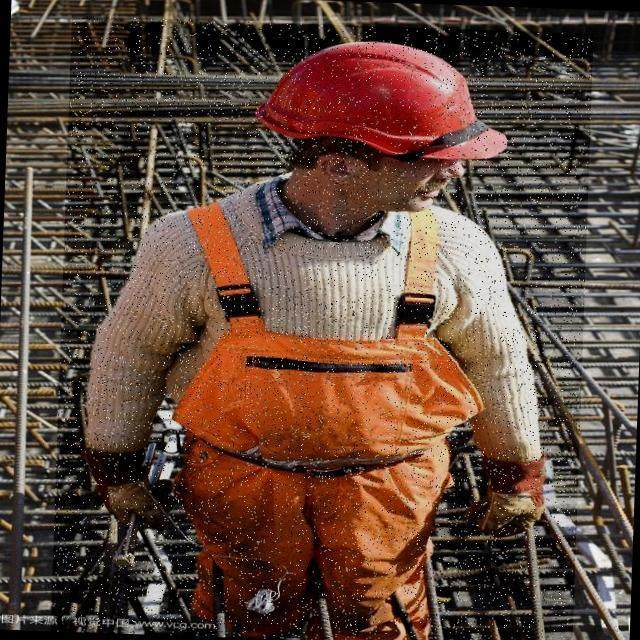Gloves: (470, 459, 558, 552), (93, 454, 168, 553)
Helmet: (251, 44, 511, 164)
Person: (70, 14, 566, 640)
no-vest: (168, 215, 471, 476)
